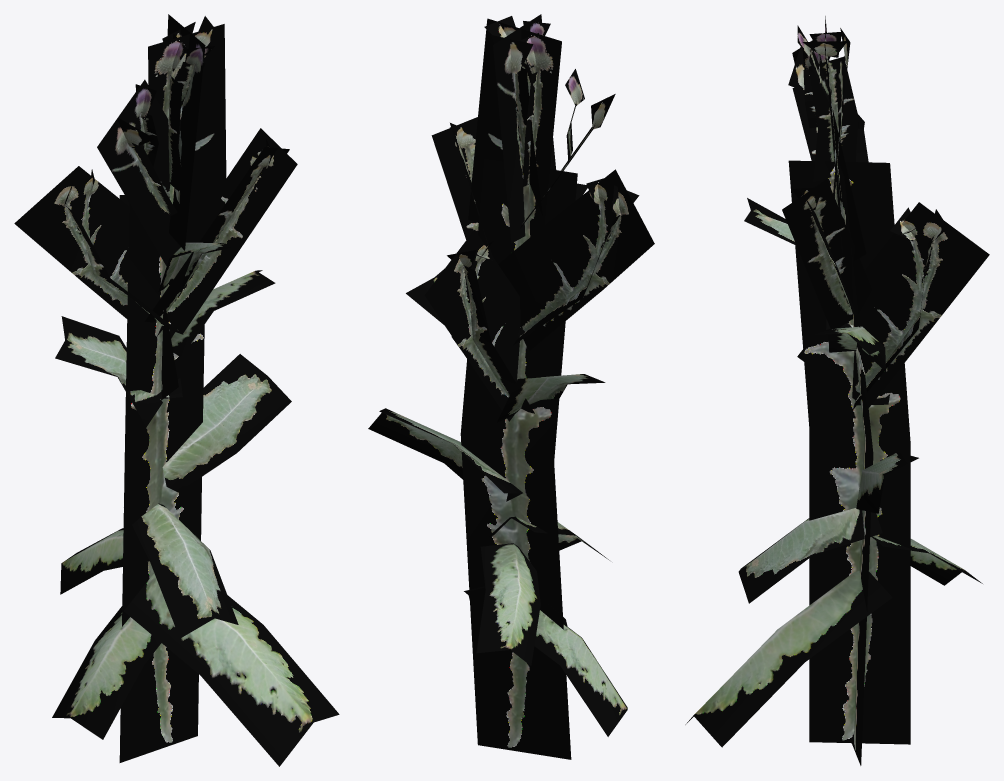
Rendered from Thistel.fbx.
3 renders of one model, left to right at view 1: azimuth 30°, elevation 25°; view 2: azimuth 150°, elevation 25°; view 3: azimuth 270°, elevation 25°, orthographic.
Visible parts, largest first — view 1: thistel; view 2: thistel; view 3: thistel.
Boxes of the visible parts, bbox=[...] form: thistel: bbox=[14, 14, 339, 766]; thistel: bbox=[368, 14, 654, 759]; thistel: bbox=[685, 16, 989, 765].
Bounding box in the file's own units: 0.9828 × 2.39 × 0.9161.
